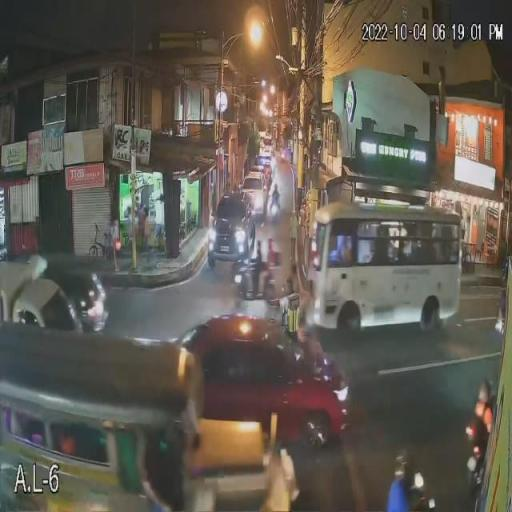helmet: (392, 452, 408, 472), (475, 381, 490, 400)
motorcycle: (464, 417, 492, 512), (234, 248, 280, 302), (400, 467, 439, 512), (266, 190, 281, 221)
rider: (466, 381, 494, 461), (386, 452, 423, 512), (237, 239, 257, 285), (265, 237, 282, 278), (268, 184, 279, 210)
